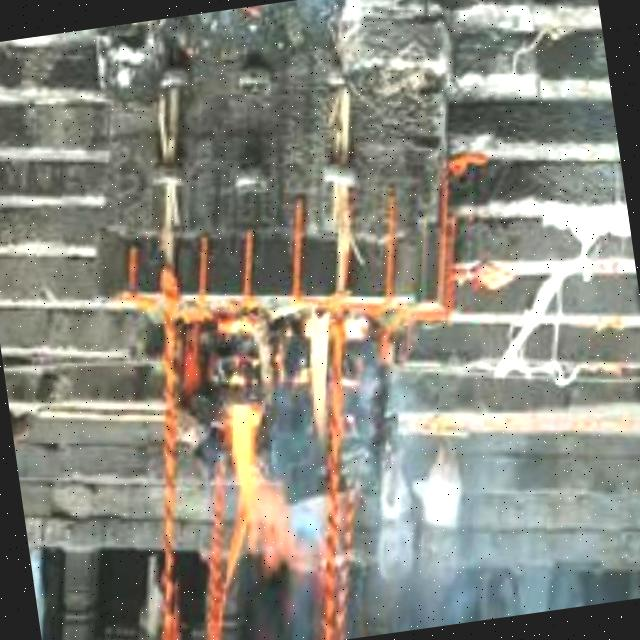fire: (187, 387, 324, 591), (260, 304, 369, 459)
